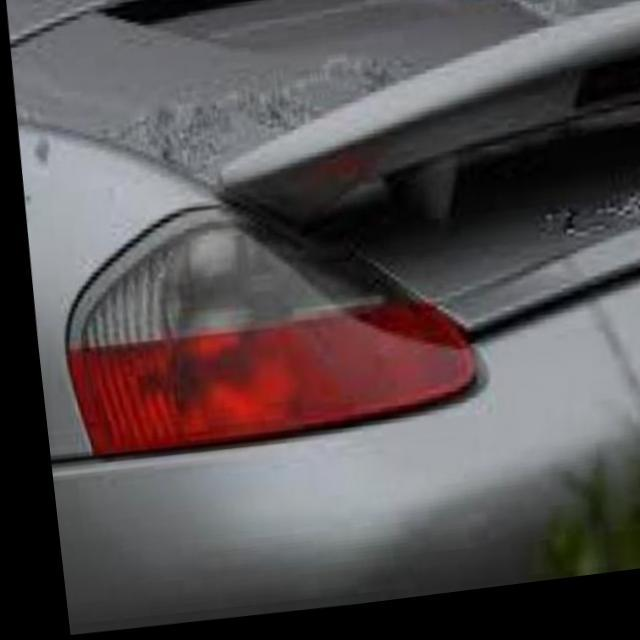rub: (83, 55, 402, 196), (520, 195, 640, 267), (454, 0, 583, 36)
